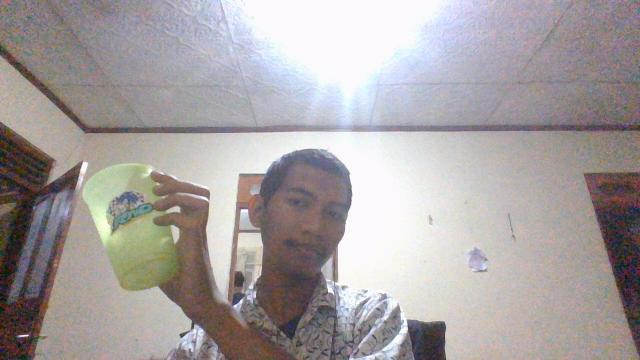botol-hijau: (81, 162, 181, 292)
